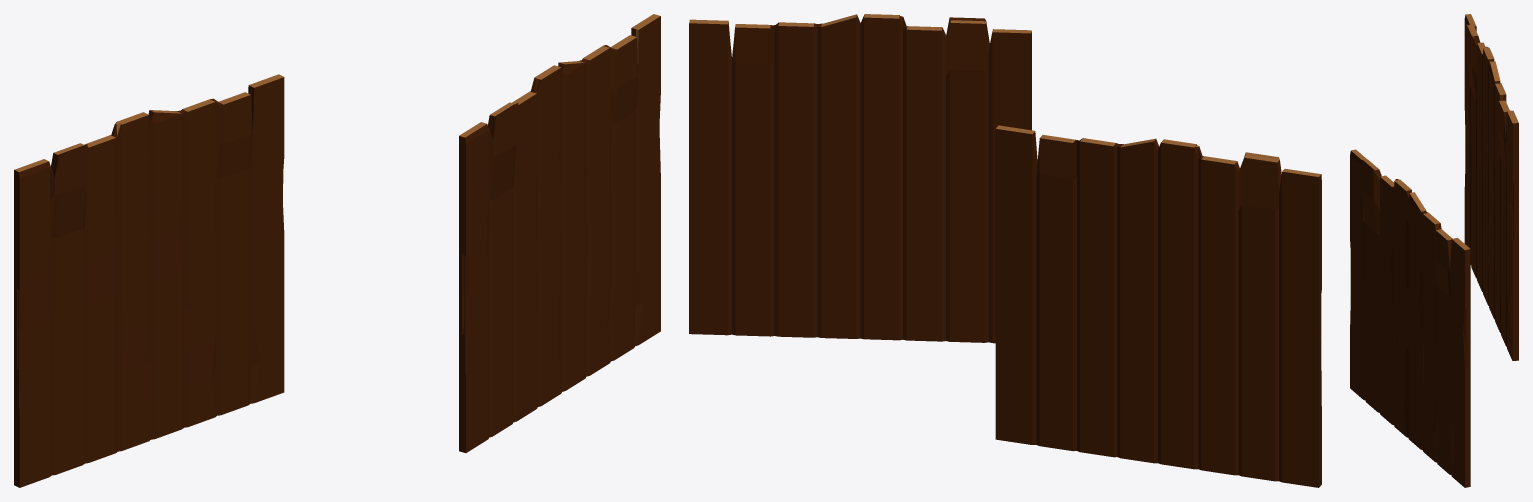
The model's file is gates.fbx.
The picture shows the model from 3 angles, left to right: view 1: azimuth 30°, elevation 25°; view 2: azimuth 150°, elevation 25°; view 3: azimuth 270°, elevation 25°; orthographic projection. The views are drawn at different scales.
Parts seen in each view (by area): view 1: Plane, Plane.001; view 2: Plane, Plane.001; view 3: Plane.001, Plane.
Part boxes in pixels (x1,y1,x2,y2): Plane: (14, 74, 284, 487); Plane.001: (459, 14, 660, 452); Plane: (995, 125, 1321, 487); Plane.001: (689, 14, 1031, 343); Plane.001: (1350, 149, 1470, 487); Plane: (1464, 14, 1518, 360).
Bounding box in the file's own units: 426 × 207 × 129.
